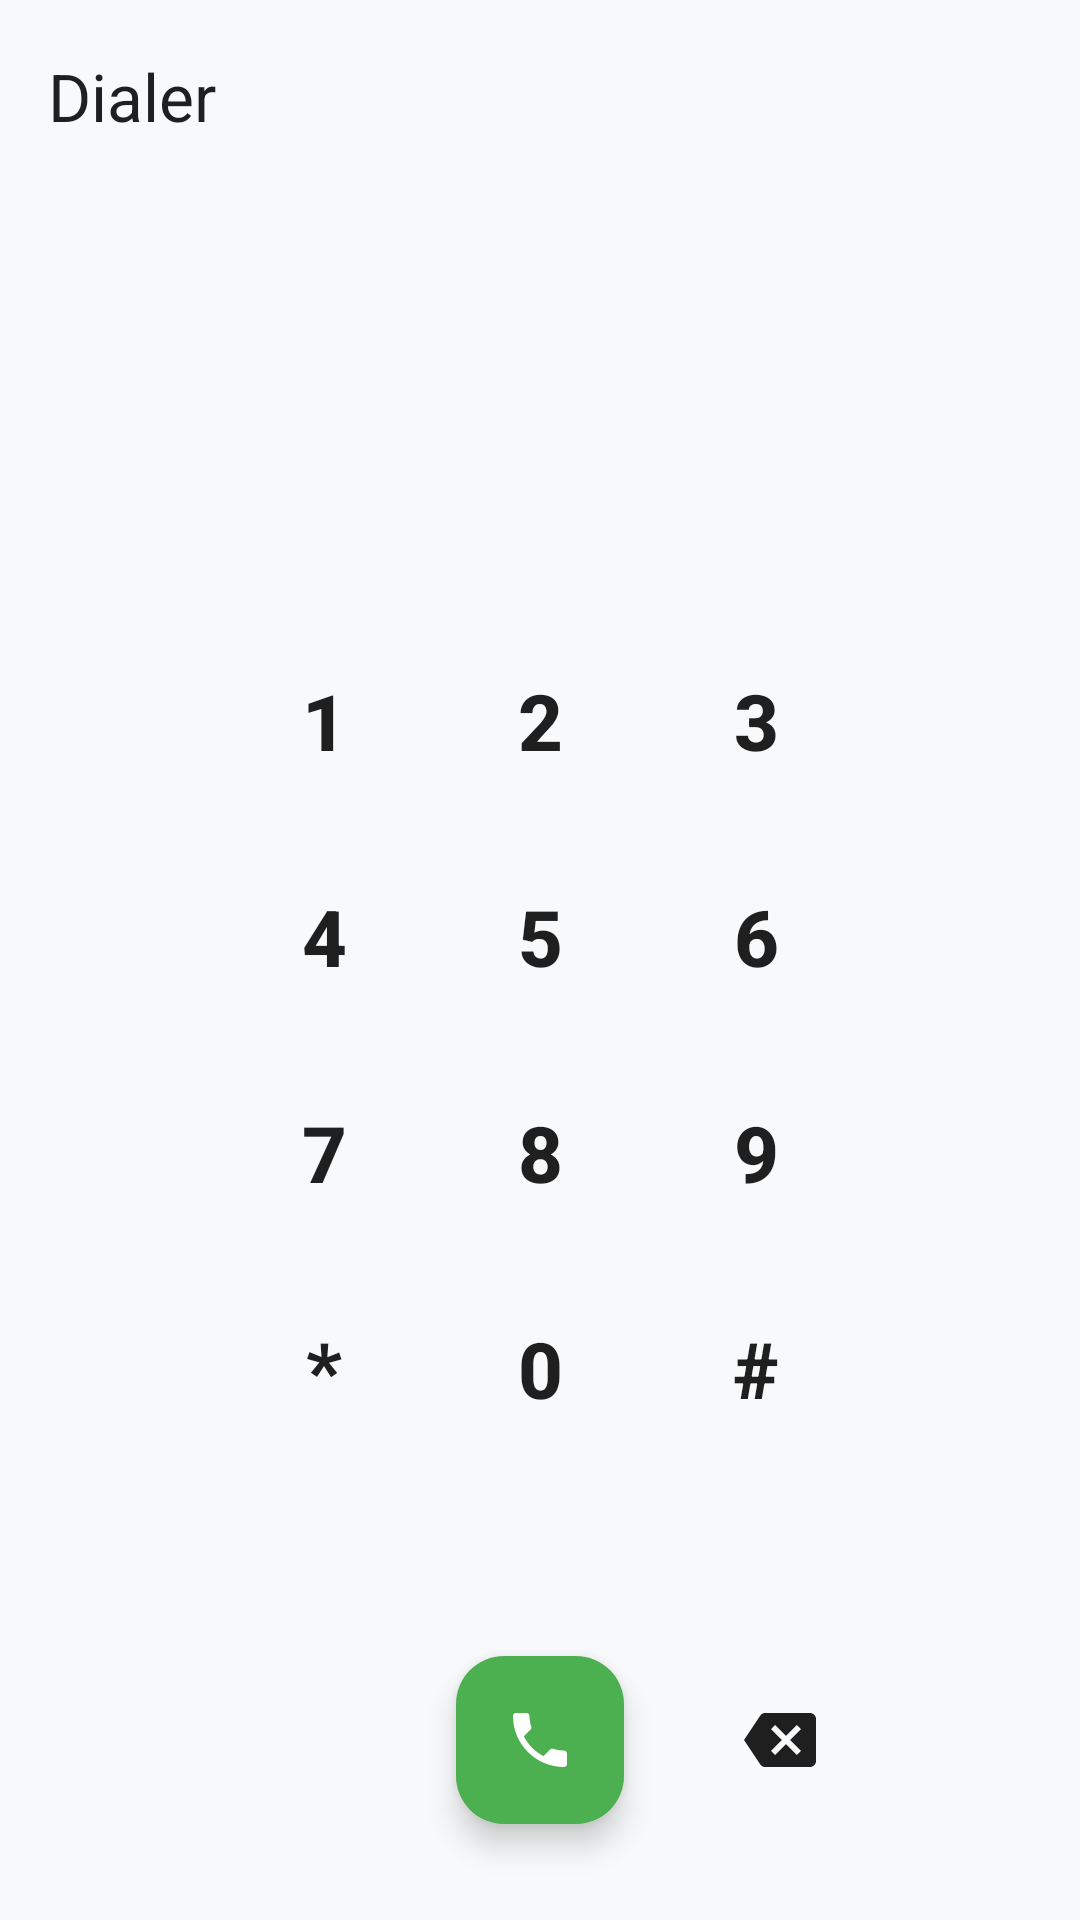

Icons on this 1080*1920 Android screen, each with its box as [x1, y1, x2, y2]:
Call: [456, 1656, 624, 1824]
Delete: [744, 1713, 816, 1767]
